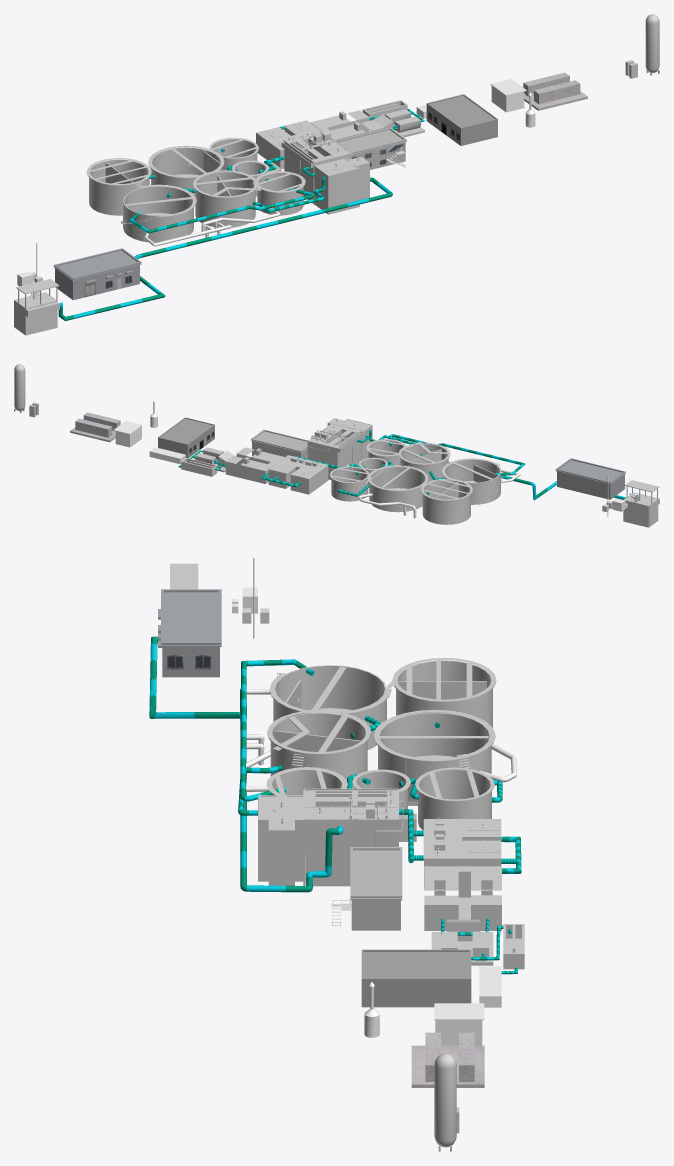
The model's file is 主场景4.gltf.
3 views of the same model, one above another, from view 1: azimuth 30°, elevation 25°; view 2: azimuth 150°, elevation 25°; view 3: azimuth 270°, elevation 25° (orthographic). The views are drawn at different scales.
Parts seen in each view (by area): view 1: 生化池, 细格栅, 污水管, 配电室1, 污泥间, 粗格栅墙体, 配电室-材质27, 臭氧发生室, 超效分离-材质20, 出水系统, 高级氧化, 氧气 (+2 smaller); view 2: 生化池, 细格栅, 配电室1, 污水管, 超效分离-材质20, 污泥间, 高级氧化, 粗格栅墙体, 配电室-材质27, 臭氧发生室, 出水系统, 氧气 (+3 smaller); view 3: 生化池, 细格栅, 污水管, 污泥间, 配电室1, 高级氧化, 配电室-材质27, 超效分离-材质20, 臭氧发生室, 出水系统, 氧气, 在线监测间 (+2 smaller).
Part boxes in pixels (x1=…): 生化池: x1=86, y1=137, x2=305, y2=242; 细格栅: x1=281, y1=130, x2=369, y2=214; 污水管: x1=58, y1=108, x2=424, y2=320; 配电室1: x1=53, y1=248, x2=141, y2=300; 污泥间: x1=426, y1=94, x2=497, y2=145; 粗格栅墙体: x1=14, y1=279, x2=59, y2=335; 配电室-材质27: x1=336, y1=127, x2=406, y2=169; 臭氧发生室: x1=523, y1=72, x2=587, y2=110; 超效分离-材质20: x1=256, y1=120, x2=322, y2=169; 出水系统: x1=362, y1=100, x2=424, y2=137; 高级氧化: x1=310, y1=110, x2=383, y2=140; 氧气: x1=625, y1=14, x2=659, y2=78; 生化池: x1=330, y1=439, x2=502, y2=524; 细格栅: x1=305, y1=418, x2=372, y2=479; 配电室1: x1=555, y1=458, x2=625, y2=499; 污水管: x1=178, y1=429, x2=631, y2=500; 超效分离-材质20: x1=268, y1=455, x2=328, y2=494; 污泥间: x1=158, y1=417, x2=214, y2=457; 高级氧化: x1=225, y1=447, x2=284, y2=483; 粗格栅墙体: x1=623, y1=480, x2=659, y2=527; 配电室-材质27: x1=251, y1=429, x2=307, y2=458; 臭氧发生室: x1=70, y1=412, x2=120, y2=442; 出水系统: x1=181, y1=447, x2=235, y2=476; 氧气: x1=14, y1=364, x2=38, y2=417; 生化池: x1=266, y1=657, x2=496, y2=841; 细格栅: x1=258, y1=786, x2=403, y2=886; 污水管: x1=149, y1=636, x2=521, y2=974; 污泥间: x1=361, y1=949, x2=471, y2=1007; 配电室1: x1=158, y1=589, x2=221, y2=677; 高级氧化: x1=424, y1=866, x2=501, y2=930; 配电室-材质27: x1=350, y1=847, x2=402, y2=930; 超效分离-材质20: x1=423, y1=819, x2=501, y2=888; 臭氧发生室: x1=411, y1=1032, x2=484, y2=1087; 出水系统: x1=431, y1=919, x2=524, y2=969; 氧气: x1=434, y1=1053, x2=459, y2=1151; 在线监测间: x1=434, y1=1003, x2=484, y2=1045.
Bounding box in the file's own units: 240 × 26.74 × 67.61.
Materials: 10 (6 with a texture image).
